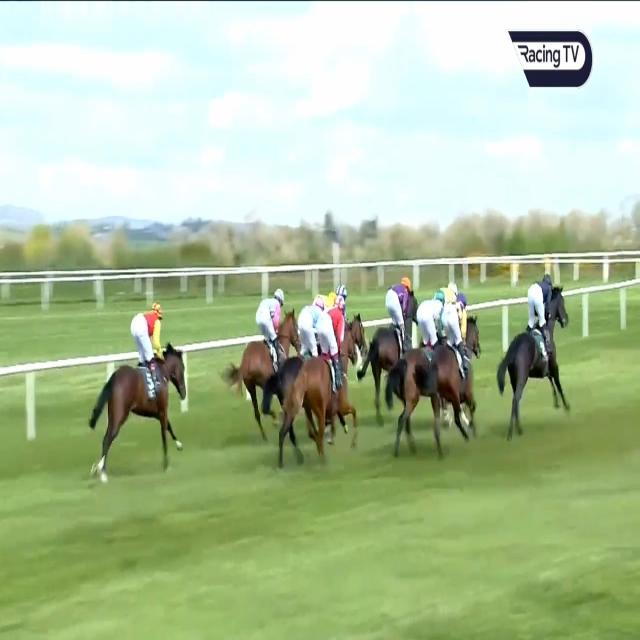horses-racing: (98, 302, 188, 473), (282, 290, 358, 463), (508, 276, 574, 443), (386, 286, 447, 452), (424, 295, 481, 448), (235, 281, 299, 379), (370, 268, 416, 372), (277, 287, 319, 368), (326, 280, 361, 318)
